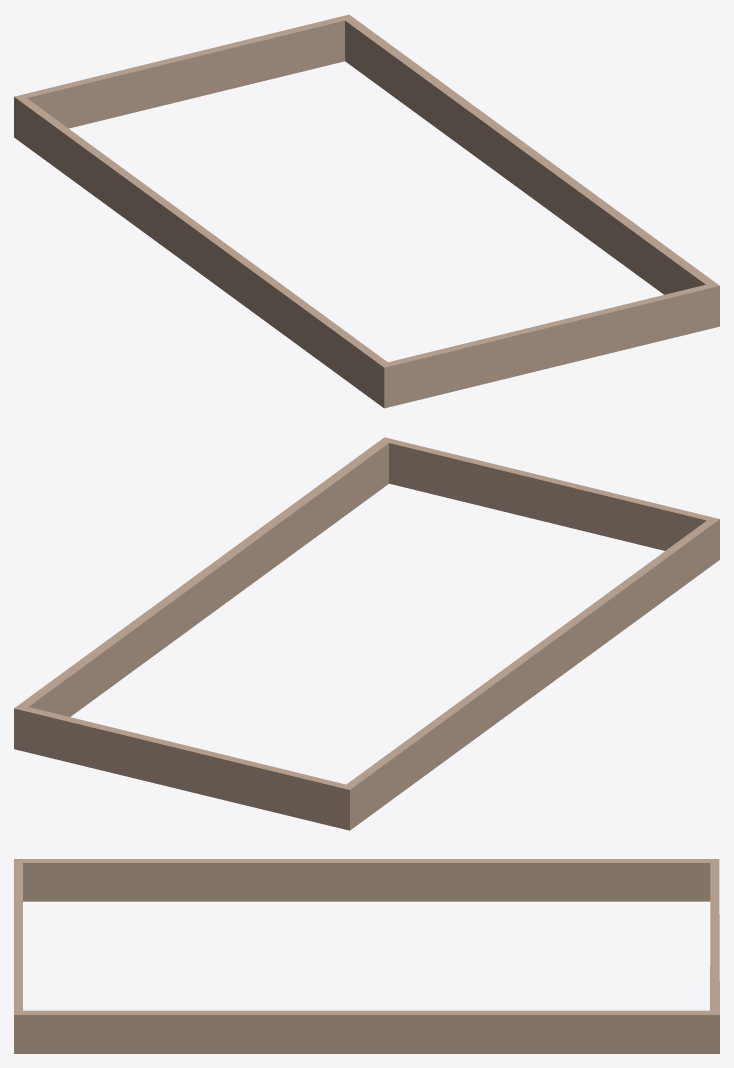
File: Wall.fbx
The picture shows the model from 3 angles, top to bottom: view 1: azimuth 30°, elevation 25°; view 2: azimuth 150°, elevation 25°; view 3: azimuth 270°, elevation 25°; orthographic projection. The views are drawn at different scales.
Parts seen in each view (by area): view 1: Wall_Collider; view 2: Wall_Collider; view 3: Wall_Collider.
Part boxes in pixels (x1,y1,x2,y2): Wall_Collider: (14, 14, 719, 408); Wall_Collider: (14, 437, 719, 830); Wall_Collider: (14, 859, 719, 1053).
Size of the model in its own units: 14655 by 1699 by 28035.
Materials: 1 (1 with a texture image).
